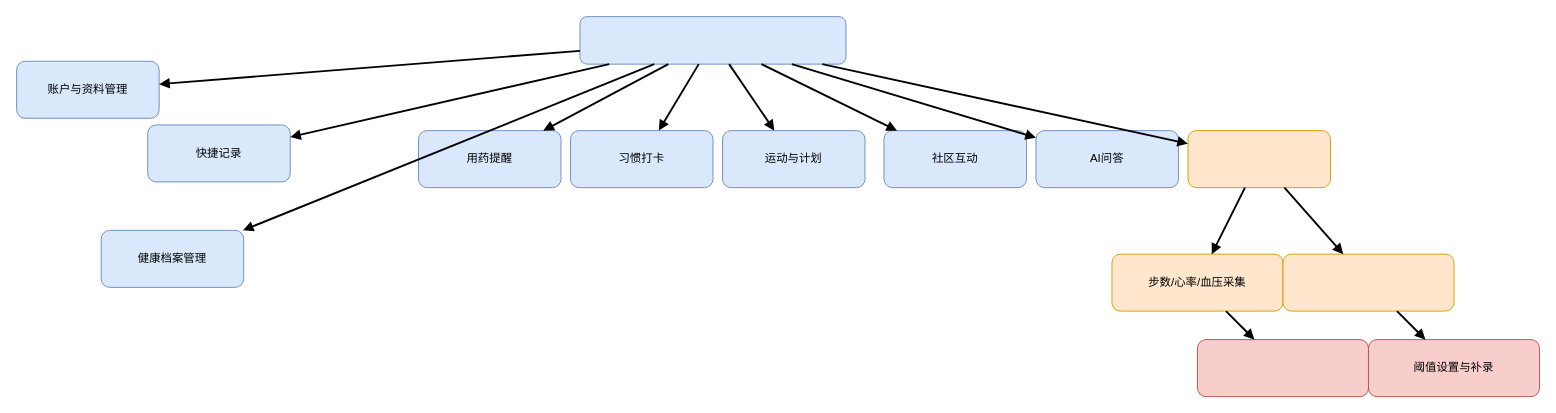
Some shapes in this 1556 by 413 pixel diagram are drawn without their labels. The shapes that lost their labels are listed below. From the top down, each one's centre as x and y in pixels, then its label:
At (x=712, y=40): "健康助手系统".
At (x=1258, y=159): "健康监测闭环".
At (x=1368, y=282): "异常预警与通知".
At (x=1282, y=368): "语音播报".
